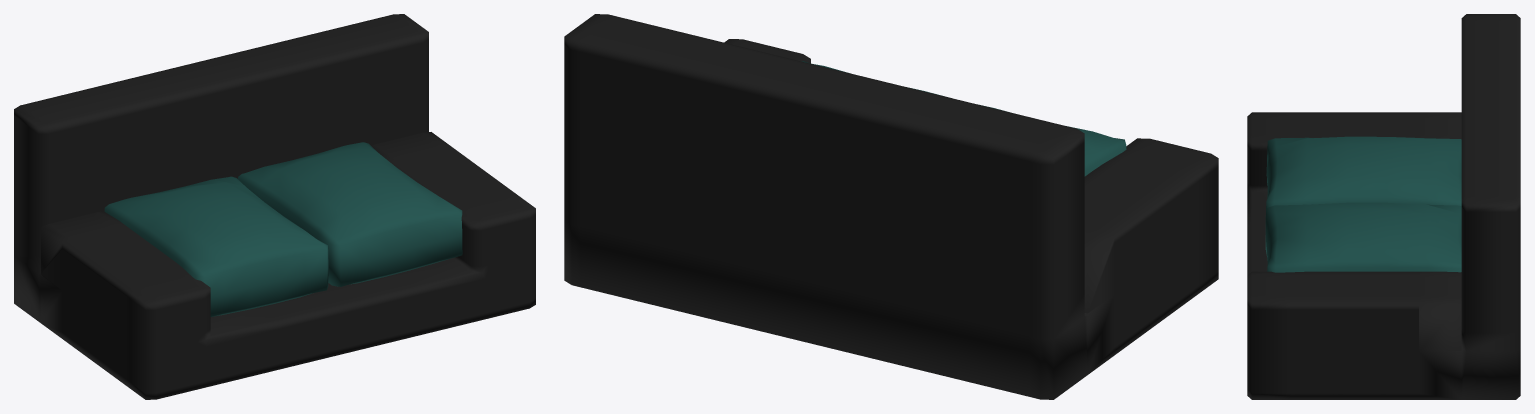
File: couch.fbx
3 views of the same model, side by side, from view 1: azimuth 30°, elevation 25°; view 2: azimuth 150°, elevation 25°; view 3: azimuth 270°, elevation 25° (orthographic). The views are drawn at different scales.
Parts seen in each view (by area): view 1: couch; view 2: couch; view 3: couch.
Part boxes in pixels (x1,y1,x2,y2): couch: (14,14,535,399); couch: (564,14,1218,399); couch: (1247,14,1520,399).
Size of the model in its own units: 546 by 263 by 330.
